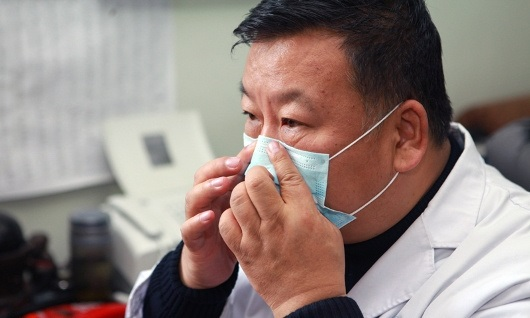face_mask: (243, 41, 372, 241)
